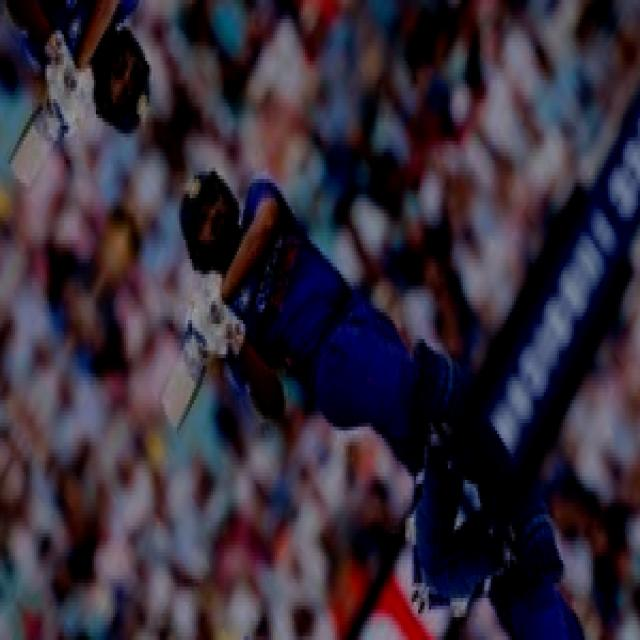toe: (155, 400, 181, 434)
